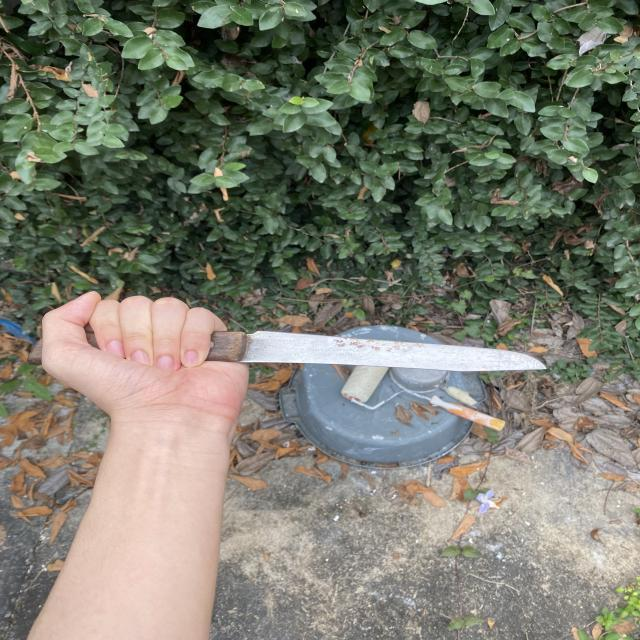faca: (8, 274, 610, 446)
